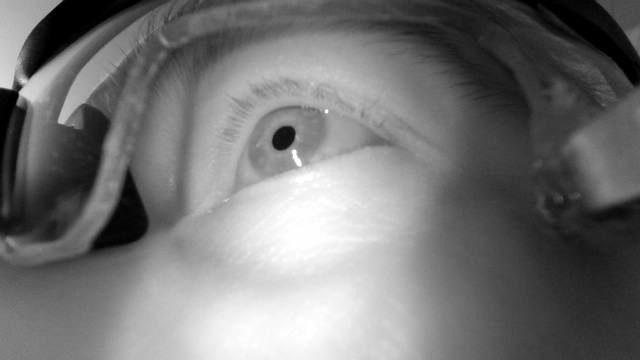pupil: (271, 125, 296, 151)
